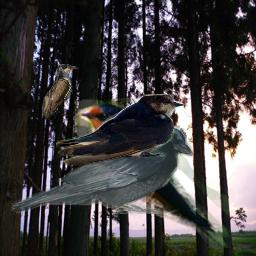Crow: (10, 125, 194, 214)
Cuckoo: (42, 64, 87, 120)
Swallow: (75, 98, 229, 248), (56, 94, 184, 166)
